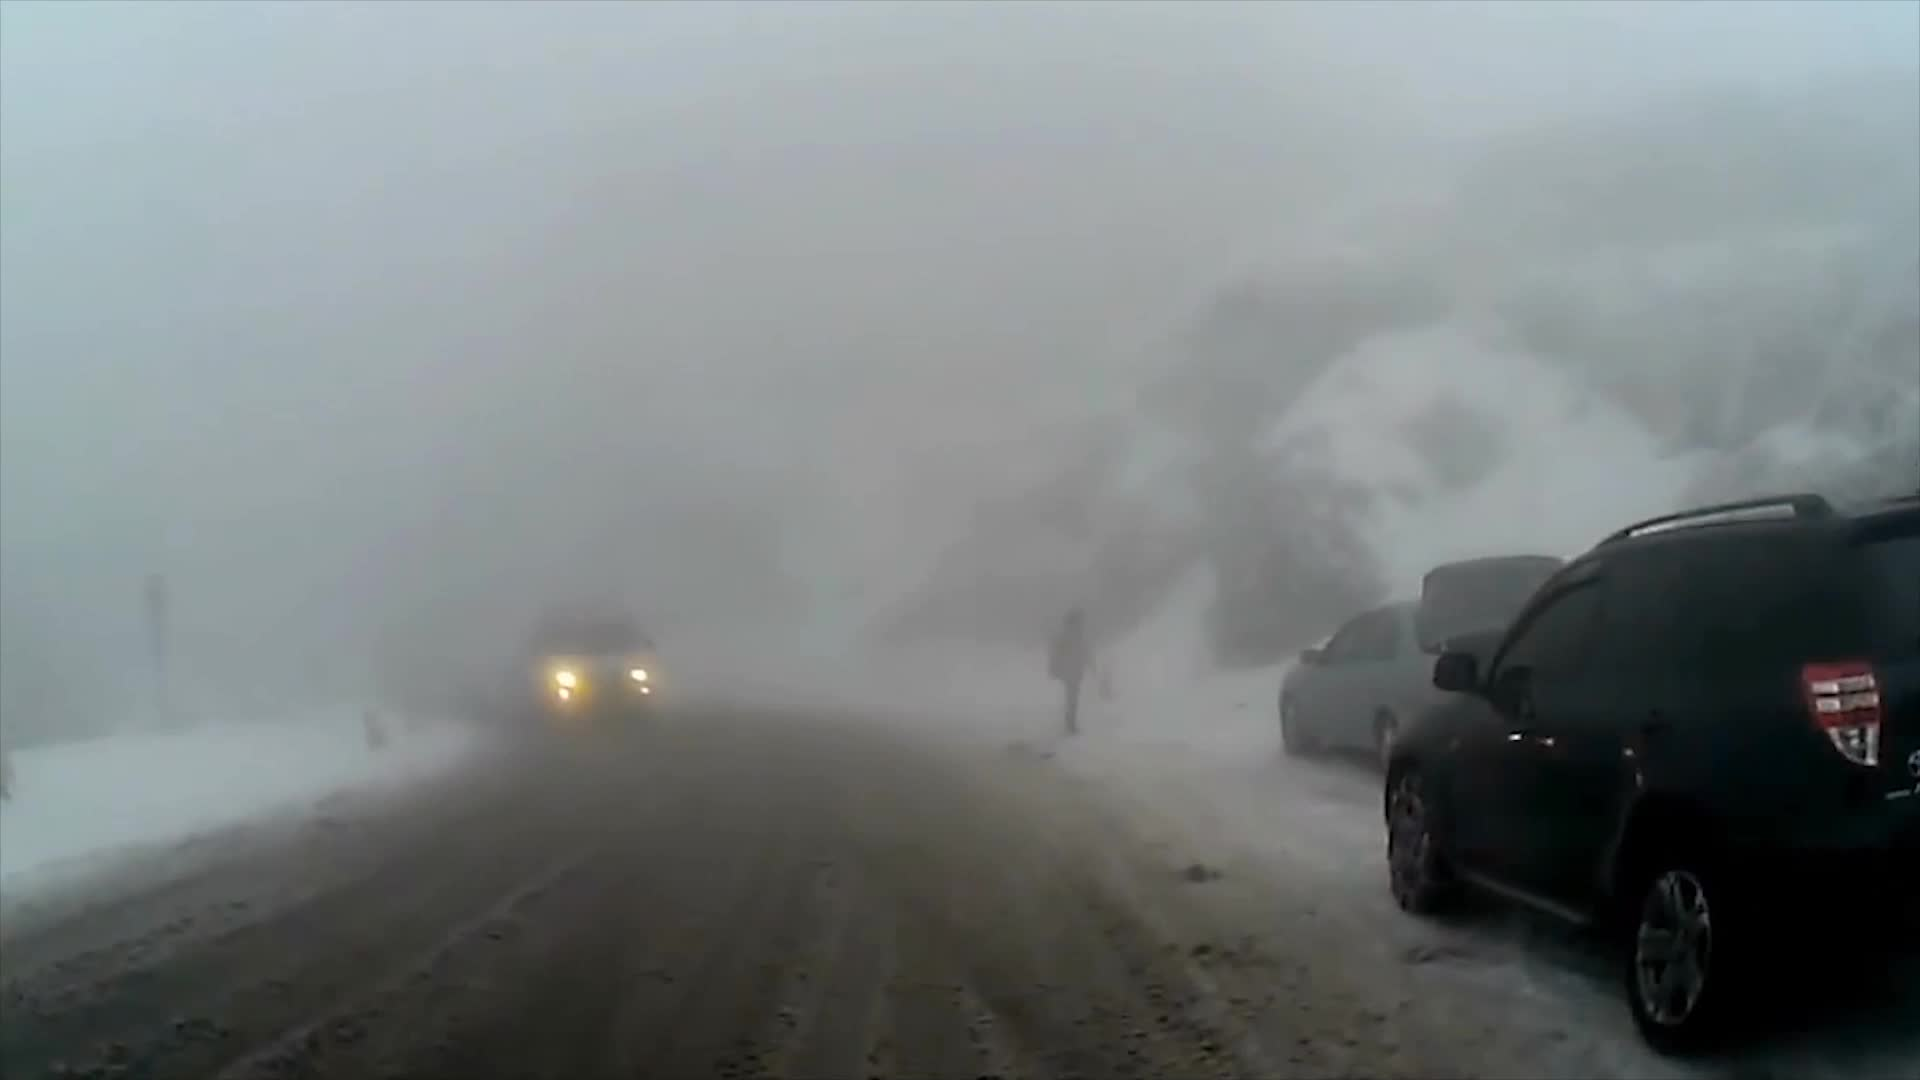pedestrian: (1047, 609, 1095, 733)
vehicle: (1383, 491, 1920, 1062), (1275, 550, 1611, 777), (524, 589, 661, 722)
